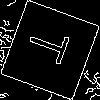T: (25, 24, 80, 69)
